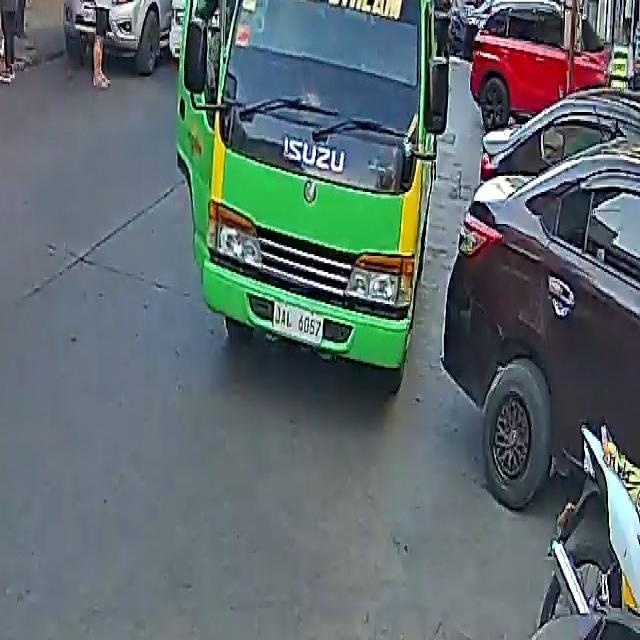car: (445, 94, 640, 516), (463, 0, 611, 128), (70, 0, 188, 80)
